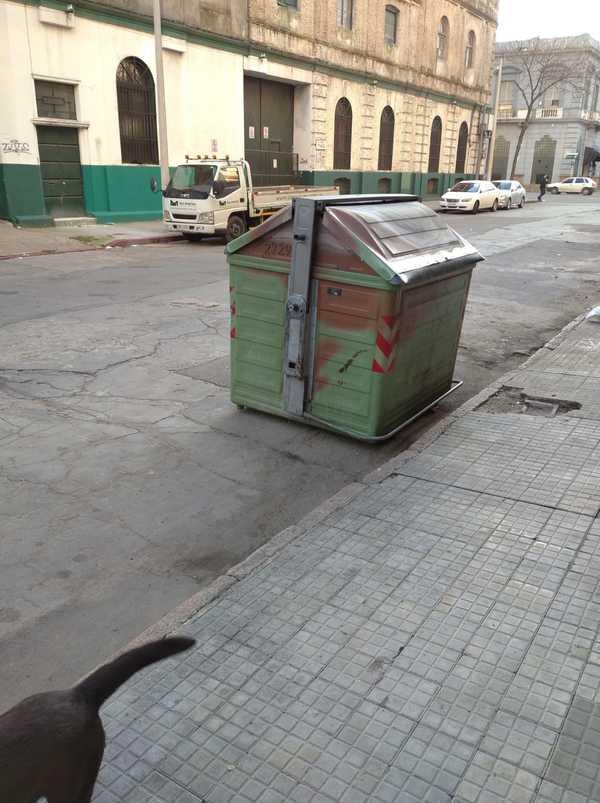Trash: (226, 194, 483, 443)
